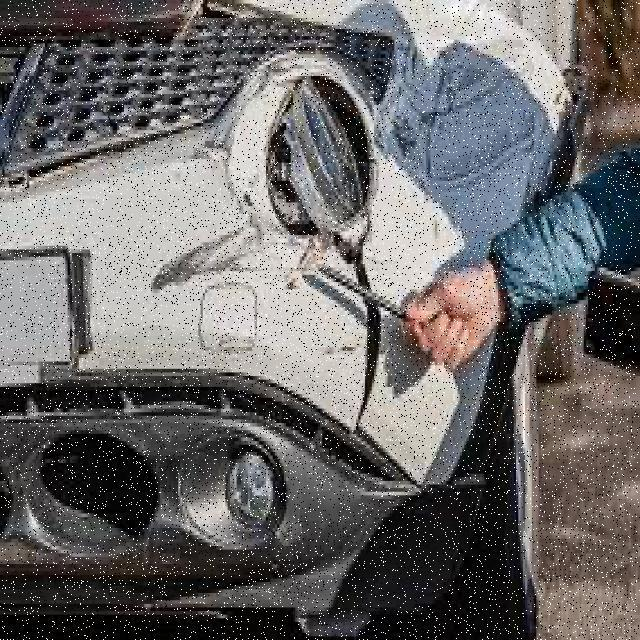hood: (0, 185, 503, 590)
